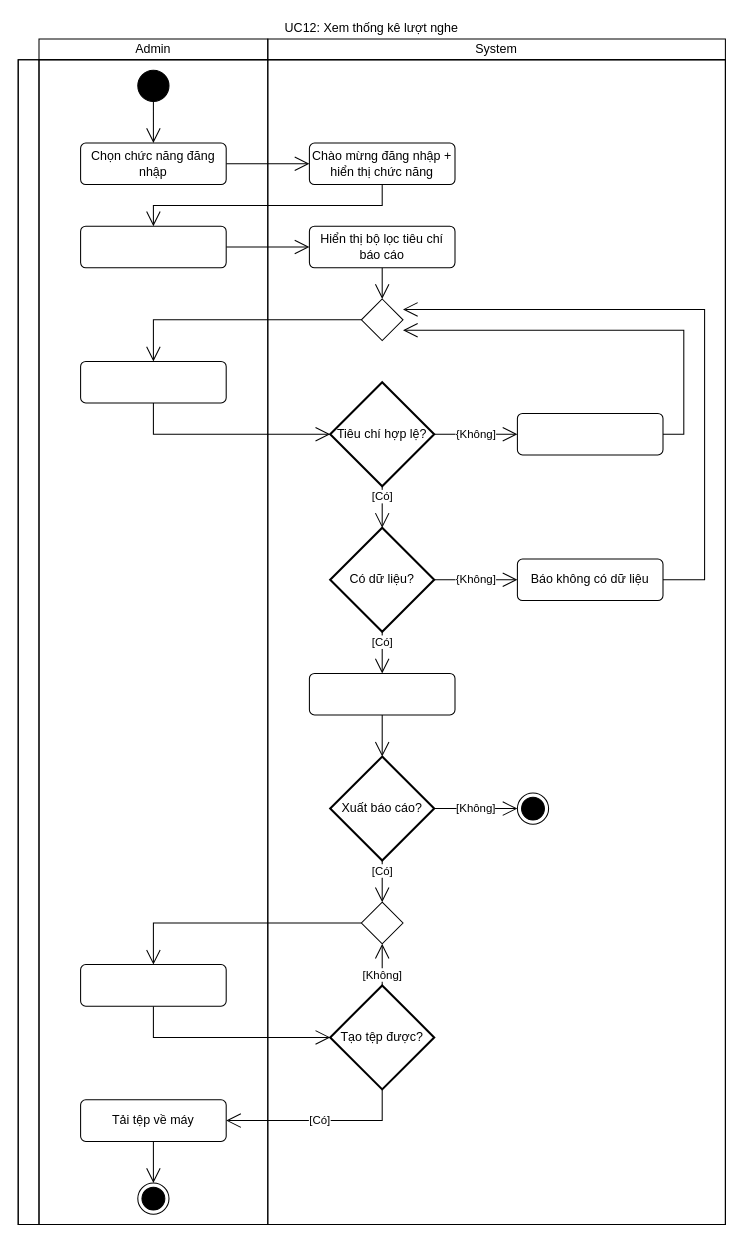
This 744x1243 diagram has some shape labels left out. The shapes that lost their labels are listed below. From the top down, each one's box as (x1, y1, x2, y2) in pixels, then its label:
(80, 225, 226, 268): Chọn Xem thống kê lượt nghe
(80, 360, 226, 403): Thiết lập tiêu chí lọc, bấm xem thống kê
(516, 412, 663, 455): Hiển thị cảnh báo tiêu chí
(308, 672, 455, 715): Hiển thị biểu đồ bằng số liệu
(80, 964, 226, 1006): Chọn định dạng tệp
